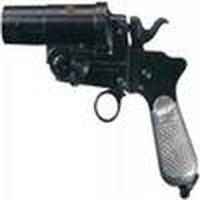gun: (2, 1, 200, 190)
